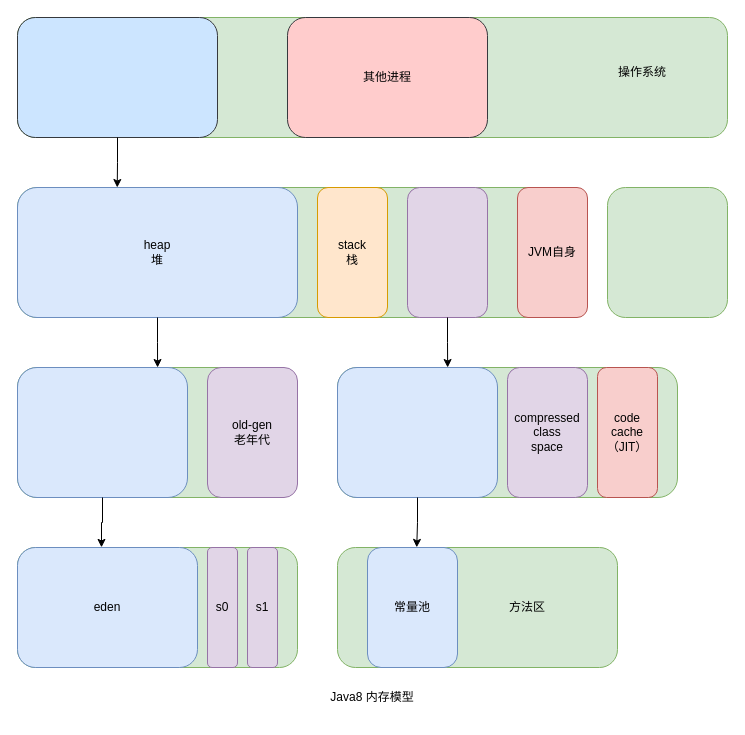
The diagram is 745 pixels wide and 735 high, and some of its shapes have lost their labels. The shapes that lost their labels are listed below. From the top down, each one's box as (x1, y1, x2, y2) in pixels, then its label:
(16, 16, 218, 138): JVM进程
(406, 186, 488, 318): non-heap 非堆
(606, 186, 728, 318): DirecteMemory 直接内存
(16, 366, 188, 498): young-gen 年轻代
(336, 366, 498, 498): meta-space 元数据区
